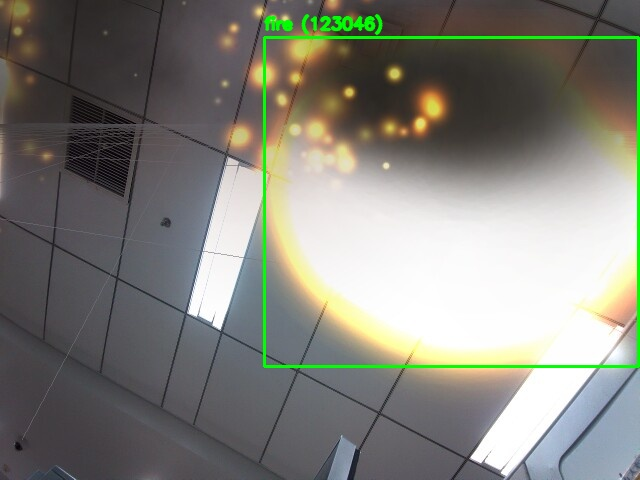fire: (264, 37, 638, 366)
